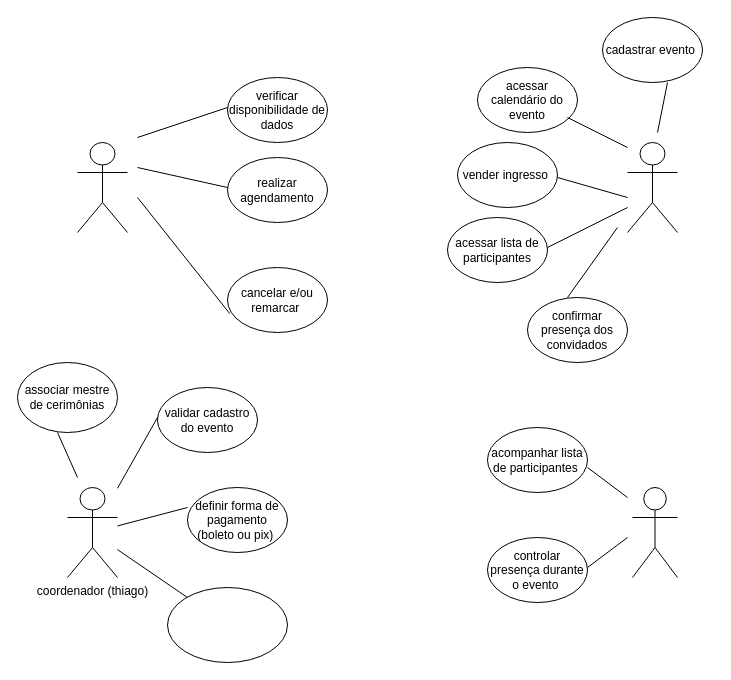
This 731x680 diagram has some shape labels left out. The centre of each missing label's shape, as x and y in pixels:
cliente: the point at 102,187
dividir pagamento (50% antes, 50% depois): the point at 227,624
organizador: the point at 652,187
profissional do evento: the point at 655,532
